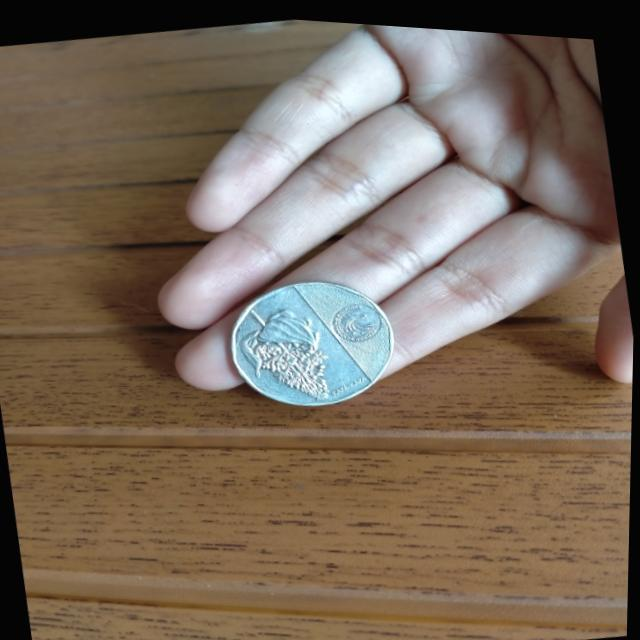10_New_Back: (230, 286, 351, 413)
